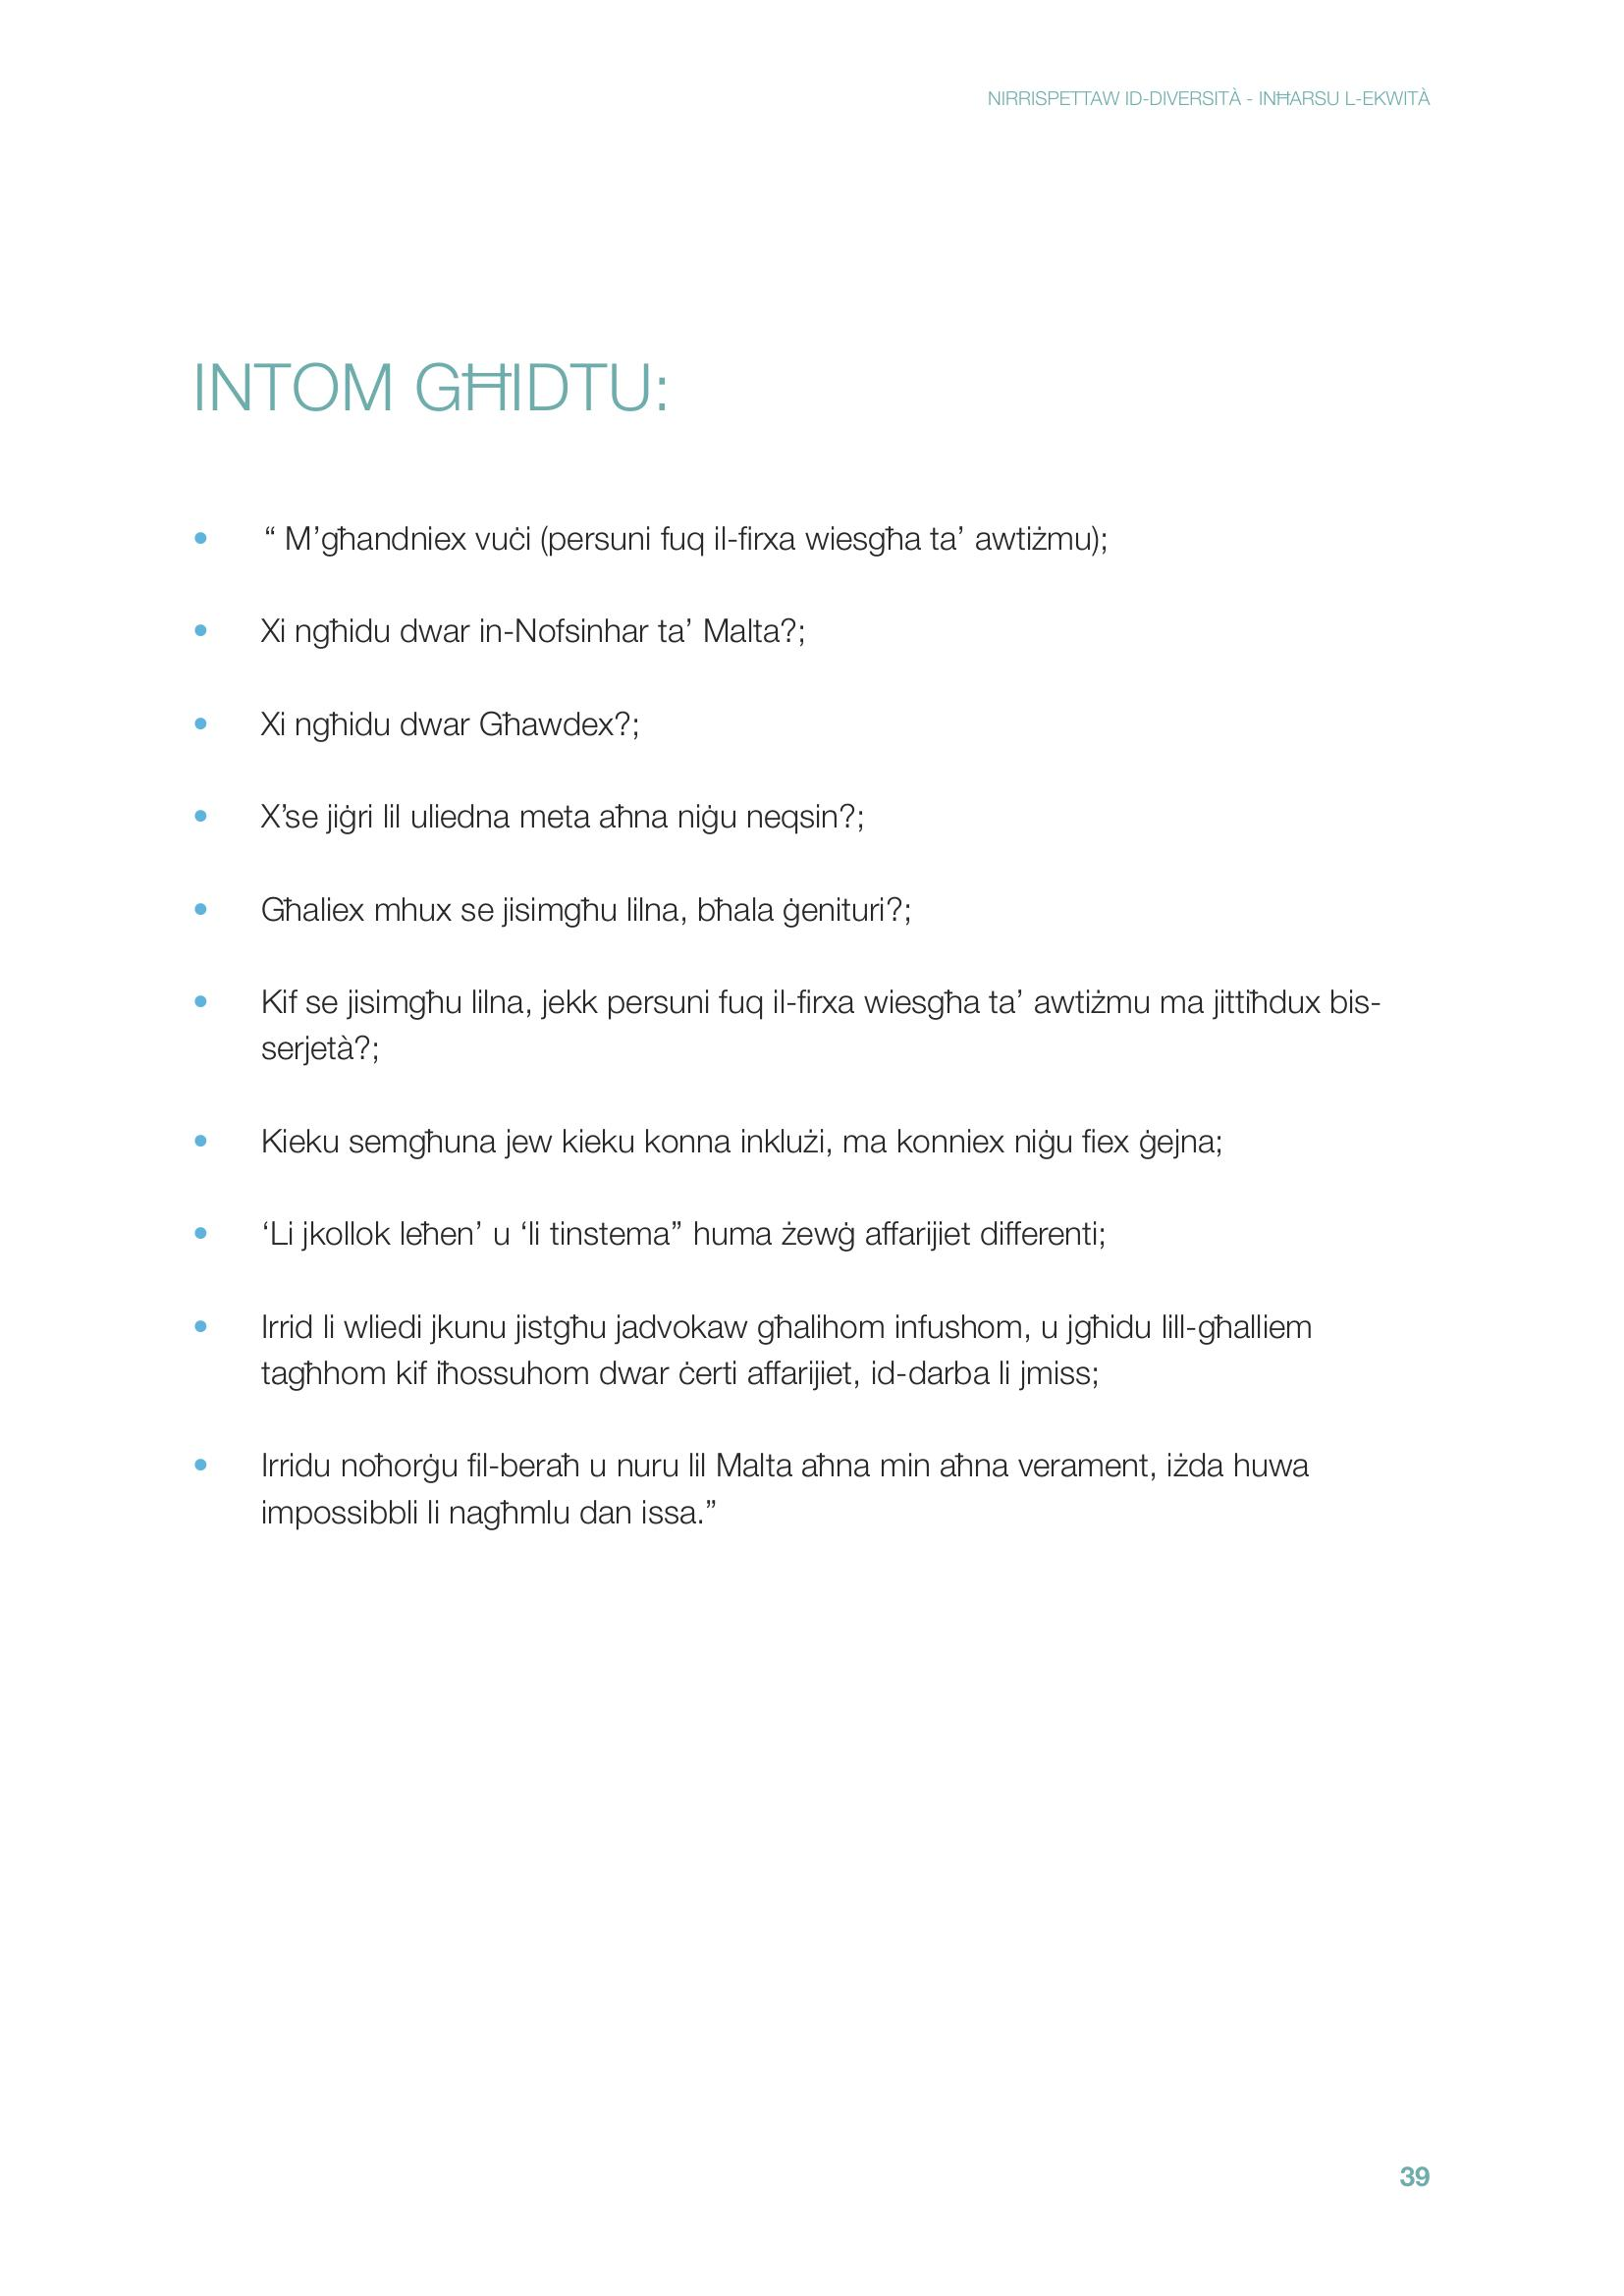text: (163, 334, 1397, 1553)
